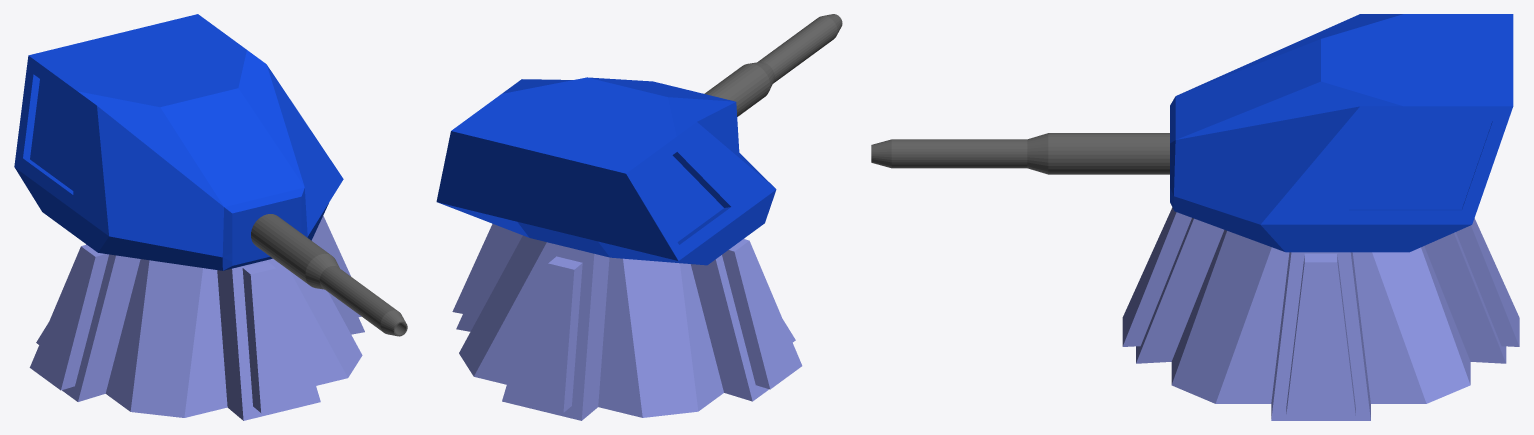
File: Turret1.fbx
The picture shows the model from 3 angles, left to right: view 1: azimuth 30°, elevation 25°; view 2: azimuth 150°, elevation 25°; view 3: azimuth 270°, elevation 25°; orthographic projection. The views are drawn at different scales.
Visible parts, largest first — view 1: Cube.002, Cube, Cylinder; view 2: Cube, Cube.002, Cylinder; view 3: Cube.002, Cube, Cylinder.
Boxes of the visible parts, x1=… form: Cube.002: x1=14, y1=14, x2=343, y2=270; Cube: x1=29, y1=215, x2=364, y2=420; Cylinder: x1=251, y1=214, x2=407, y2=336; Cube: x1=452, y1=223, x2=802, y2=420; Cube.002: x1=436, y1=77, x2=776, y2=265; Cylinder: x1=704, y1=14, x2=842, y2=116; Cube.002: x1=1170, y1=14, x2=1513, y2=252; Cube: x1=1122, y1=207, x2=1519, y2=420; Cylinder: x1=871, y1=133, x2=1169, y2=174.
Size of the model in its own units: 263 by 206 by 429.
